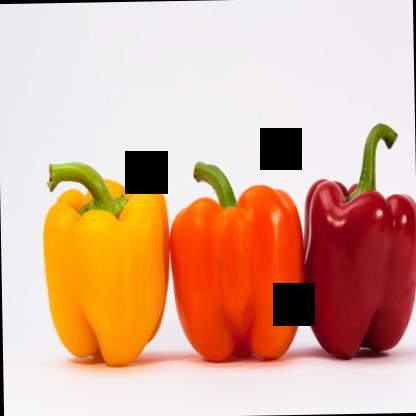bell pepper: (39, 160, 171, 366), (300, 127, 415, 363), (171, 160, 302, 364)
